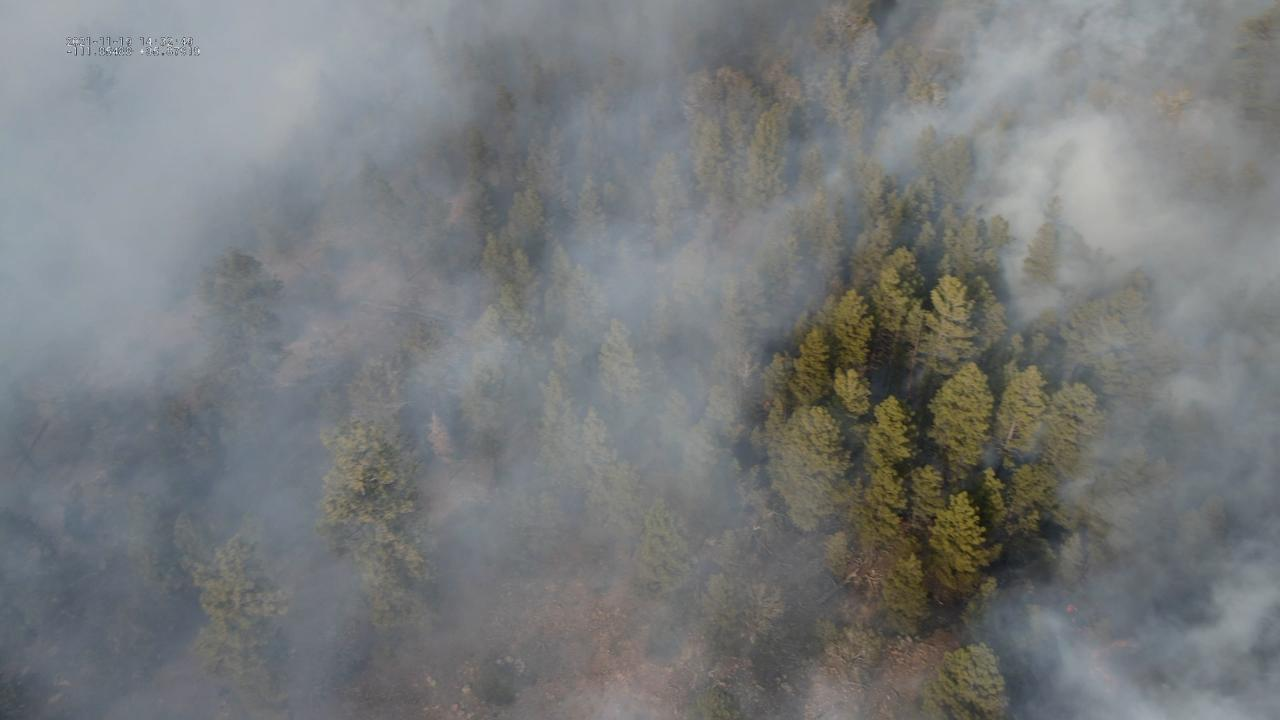fire: (1064, 603, 1079, 615)
smoke: (0, 0, 1280, 720)
